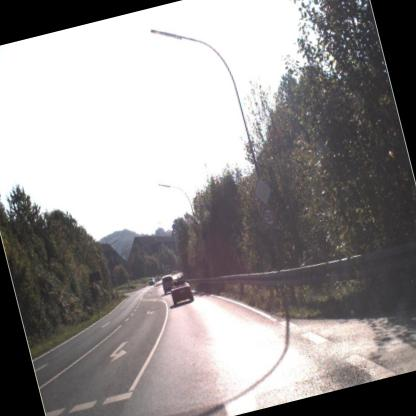other: (249, 170, 275, 210)
prohibitory: (262, 206, 278, 228)
